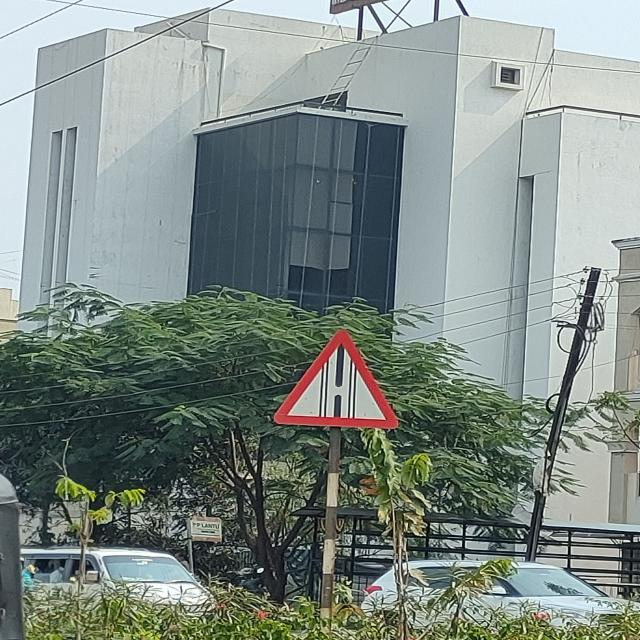ferry: (272, 328, 405, 429)
